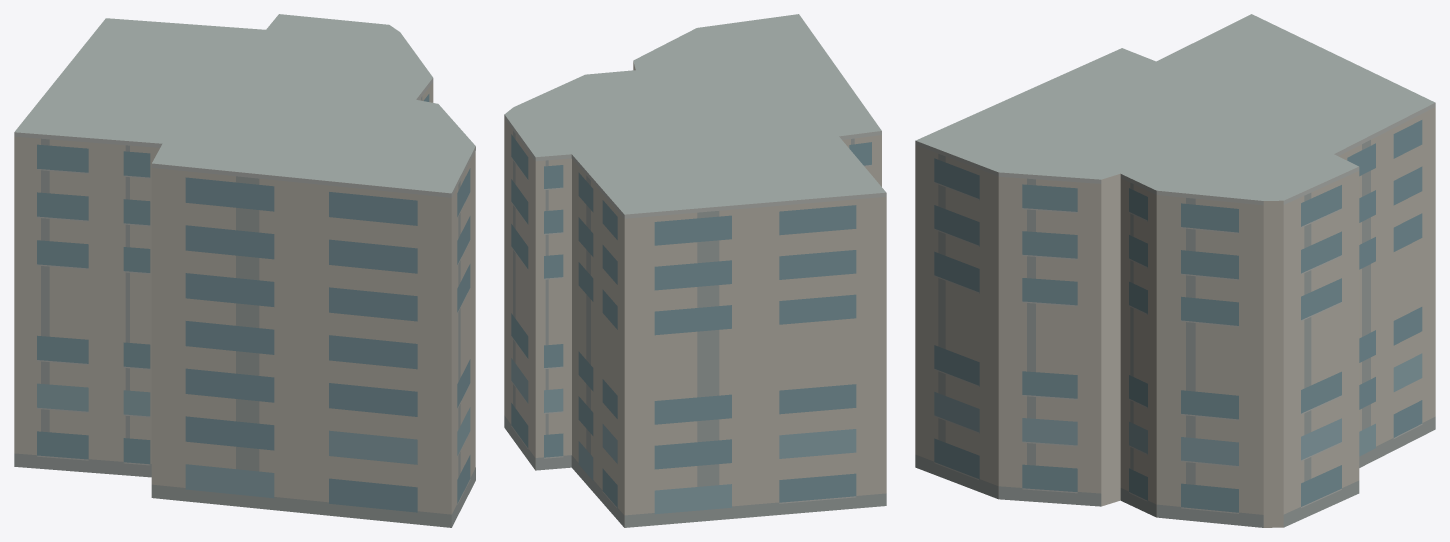
File: survey-upis-32551376.glb
The picture shows the model from 3 angles, left to right: view 1: azimuth 30°, elevation 25°; view 2: azimuth 150°, elevation 25°; view 3: azimuth 270°, elevation 25°; orthographic projection. The views are drawn at different scales.
Visible parts, largest first — view 1: survey-upis-32551376.tmp; view 2: survey-upis-32551376.tmp; view 3: survey-upis-32551376.tmp.
Part boxes in pixels (x1,y1,x2,y2): survey-upis-32551376.tmp: (14,14,475,527); survey-upis-32551376.tmp: (504,14,886,527); survey-upis-32551376.tmp: (915,14,1435,527).
Bounding box in the file's own units: 22.71 × 18.5 × 26.68.
